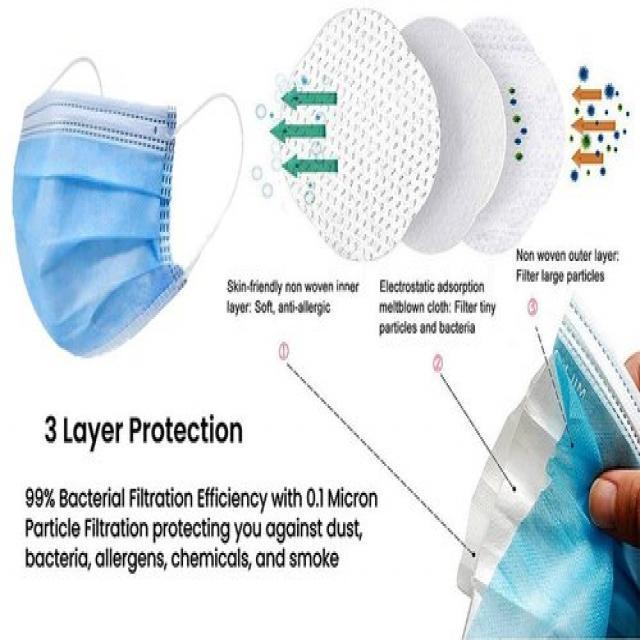face mask: (12, 76, 244, 358)
